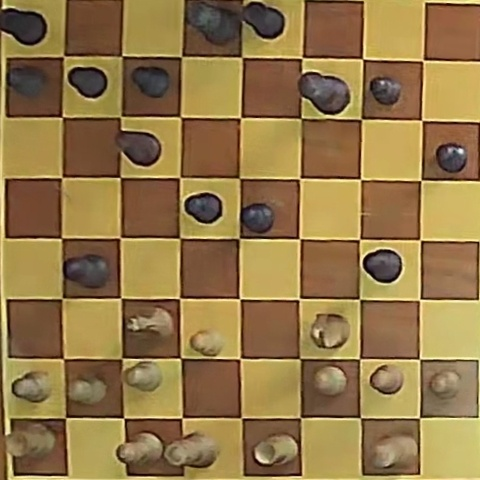black-bishop: (65, 255, 109, 288), (363, 249, 402, 283)
black-king: (299, 73, 350, 114)
black-knight: (116, 131, 161, 166)
black-pawn: (7, 66, 48, 98), (68, 67, 108, 99), (132, 66, 171, 98), (185, 192, 222, 224), (241, 203, 274, 233), (436, 143, 467, 173), (370, 76, 401, 106)
black-queen: (185, 2, 239, 45)
black-rook: (0, 7, 47, 47), (242, 2, 285, 40)
white-bishop: (117, 432, 164, 466)
white-king: (372, 434, 418, 469)
white-knight: (127, 306, 174, 337), (310, 313, 349, 348)
white-pawn: (12, 370, 51, 403), (68, 375, 108, 405), (125, 361, 162, 391), (428, 369, 462, 400), (370, 365, 404, 395), (313, 366, 347, 396), (190, 329, 224, 356)
white-queen: (164, 431, 219, 467)
white-rook: (6, 423, 56, 459), (254, 433, 299, 466)
